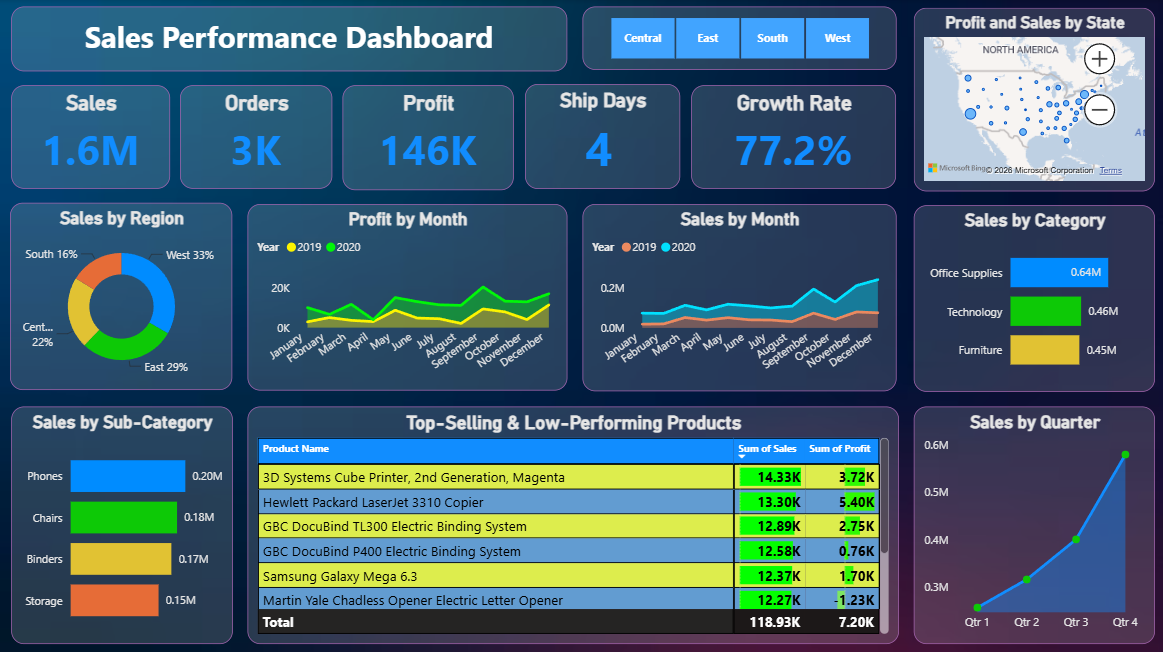

Layout of this report page (visuals, bound fields, positions):
{"tool":"powerbi","page":{"name":"Dashboard","canvas":[1280,720],"ordinal":0},"visuals":[{"type":"clusteredBarChart","title":"Sales by Category","fields":{"Category":["SuperStore_Sales_Dataset.Category"],"Y":["Sum(SuperStore_Sales_Dataset.Sales)"]},"box":[1003.1,226.4,264.8,204.5],"z":0},{"type":"clusteredBarChart","title":"Sales by  Sub-Category","fields":{"Y":["Sum(SuperStore_Sales_Dataset.Sales)"],"Category":["SuperStore_Sales_Dataset.Sub-Category"]},"box":[12.3,447.3,242.9,260.7],"z":1000},{"type":"stackedAreaChart","title":"Sales by Month","fields":{"Y":["Sum(SuperStore_Sales_Dataset.Sales)"],"Category":["SuperStore_Sales_Dataset.Order Date.Variation.Date Hierarchy.Month","SuperStore_Sales_Dataset.Order Date.Variation.Date Hierarchy.Day"],"Series":["SuperStore_Sales_Dataset.Order Date.Variation.Date Hierarchy.Year"]},"box":[639.5,225,344.4,205.8],"z":2000},{"type":"stackedAreaChart","title":"Profit by Month","fields":{"Category":["SuperStore_Sales_Dataset.Order Date.Variation.Date Hierarchy.Month","SuperStore_Sales_Dataset.Order Date.Variation.Date Hierarchy.Day"],"Series":["SuperStore_Sales_Dataset.Order Date.Variation.Date Hierarchy.Year"],"Y":["Sum(SuperStore_Sales_Dataset.Profit)"]},"box":[271.7,225,351.3,204.5],"z":3000},{"type":"map","title":"Profit and Sales by State","fields":{"Category":["SuperStore_Sales_Dataset.State"],"Size":["Sum(SuperStore_Sales_Dataset.Sales)"]},"box":[1003.1,9.6,264.8,201.7],"z":4000},{"type":"slicer","fields":{"Values":["SuperStore_Sales_Dataset.Region"]},"box":[639.5,8.2,344.4,70],"z":5000},{"type":"textbox","box":[12.3,8.2,610.6,71.4],"z":6000},{"type":"cardVisual","title":"Orders","fields":{"Data":["Count(SuperStore_Sales_Dataset.Order ID)"]},"box":[197.6,94.7,167.4,113.9],"z":7000},{"type":"cardVisual","title":"Sales","fields":{"Data":["Sum(SuperStore_Sales_Dataset.Sales)"]},"box":[12.3,94.7,174.3,113.9],"z":8000},{"type":"cardVisual","title":"Profit","fields":{"Data":["Sum(SuperStore_Sales_Dataset.Profit)"]},"box":[376,94.7,188,115.3],"z":9000},{"type":"cardVisual","title":"Ship Days","fields":{"Data":["Avg(SuperStore_Sales_Dataset.AvgDelivery)"]},"box":[576.3,93.3,170.2,115.3],"z":10000},{"type":"donutChart","title":"Sales by Region","fields":{"Category":["SuperStore_Sales_Dataset.Region"],"Y":["Sum(SuperStore_Sales_Dataset.Sales)"]},"box":[11,223.7,244.3,205.8],"z":11000},{"type":"stackedAreaChart","title":"Sales by Quarter","fields":{"Y":["Sum(SuperStore_Sales_Dataset.Sales)"],"Category":["SuperStore_Sales_Dataset.Order Date.Variation.Date Hierarchy.Year","SuperStore_Sales_Dataset.Order Date.Variation.Date Hierarchy.Quarter","SuperStore_Sales_Dataset.Order Date.Variation.Date Hierarchy.Month","SuperStore_Sales_Dataset.Order Date.Variation.Date Hierarchy.Day"]},"box":[1003.1,447.3,264.8,260.7],"z":12000},{"type":"pivotTable","title":"Top-Selling & Low-Performing Products","fields":{"Rows":["SuperStore_Sales_Dataset.Product Name"],"Values":["Sum(SuperStore_Sales_Dataset.Sales)","Sum(SuperStore_Sales_Dataset.Profit)"]},"box":[271.7,447.3,714.9,260.7],"z":13000},{"type":"cardVisual","title":"Growth Rate","fields":{"Data":["SuperStore_Sales_Dataset.Growth Rate"]},"box":[758.8,94.7,225,113.9],"z":14000}]}

Visuals, with their boxes in screenshot pixels (x1, y1, x2, y2), scaled from the page's 1280x720 canvas onto the 1163x652 screenshot:
"Sales by Category" clusteredBarChart: [x1=911, y1=205, x2=1152, y2=390]
"Sales by  Sub-Category" clusteredBarChart: [x1=11, y1=405, x2=232, y2=641]
"Sales by Month" stackedAreaChart: [x1=581, y1=204, x2=894, y2=390]
"Profit by Month" stackedAreaChart: [x1=247, y1=204, x2=566, y2=389]
"Profit and Sales by State" map: [x1=911, y1=9, x2=1152, y2=191]
slicer - SuperStore_Sales_Dataset.Region: [x1=581, y1=7, x2=894, y2=71]
textbox: [x1=11, y1=7, x2=566, y2=72]
"Orders" cardVisual: [x1=180, y1=86, x2=332, y2=189]
"Sales" cardVisual: [x1=11, y1=86, x2=170, y2=189]
"Profit" cardVisual: [x1=342, y1=86, x2=512, y2=190]
"Ship Days" cardVisual: [x1=524, y1=84, x2=678, y2=189]
"Sales by Region" donutChart: [x1=10, y1=203, x2=232, y2=389]
"Sales by Quarter" stackedAreaChart: [x1=911, y1=405, x2=1152, y2=641]
"Top-Selling & Low-Performing Products" pivotTable: [x1=247, y1=405, x2=896, y2=641]
"Growth Rate" cardVisual: [x1=689, y1=86, x2=894, y2=189]
